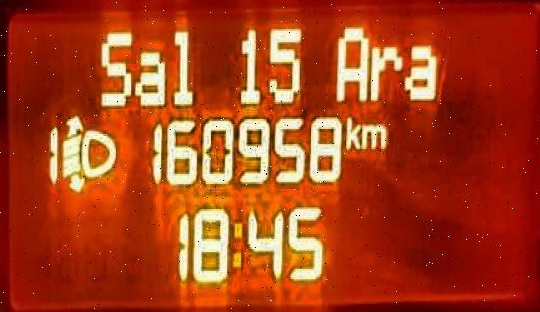0: (201, 117, 232, 182)
1: (241, 22, 261, 103), (174, 207, 188, 283), (45, 117, 58, 187), (151, 115, 162, 189)
4: (246, 209, 281, 280)
5: (267, 24, 301, 104), (288, 205, 323, 282), (275, 114, 305, 184)
6: (166, 117, 195, 183)
8: (192, 203, 226, 282), (309, 113, 338, 182)
9: (238, 114, 268, 184)
X: (333, 22, 367, 100), (98, 29, 131, 104), (169, 20, 198, 102), (403, 37, 439, 103), (370, 40, 400, 97), (136, 50, 165, 105), (361, 119, 386, 150), (232, 212, 241, 273), (344, 112, 358, 150)
